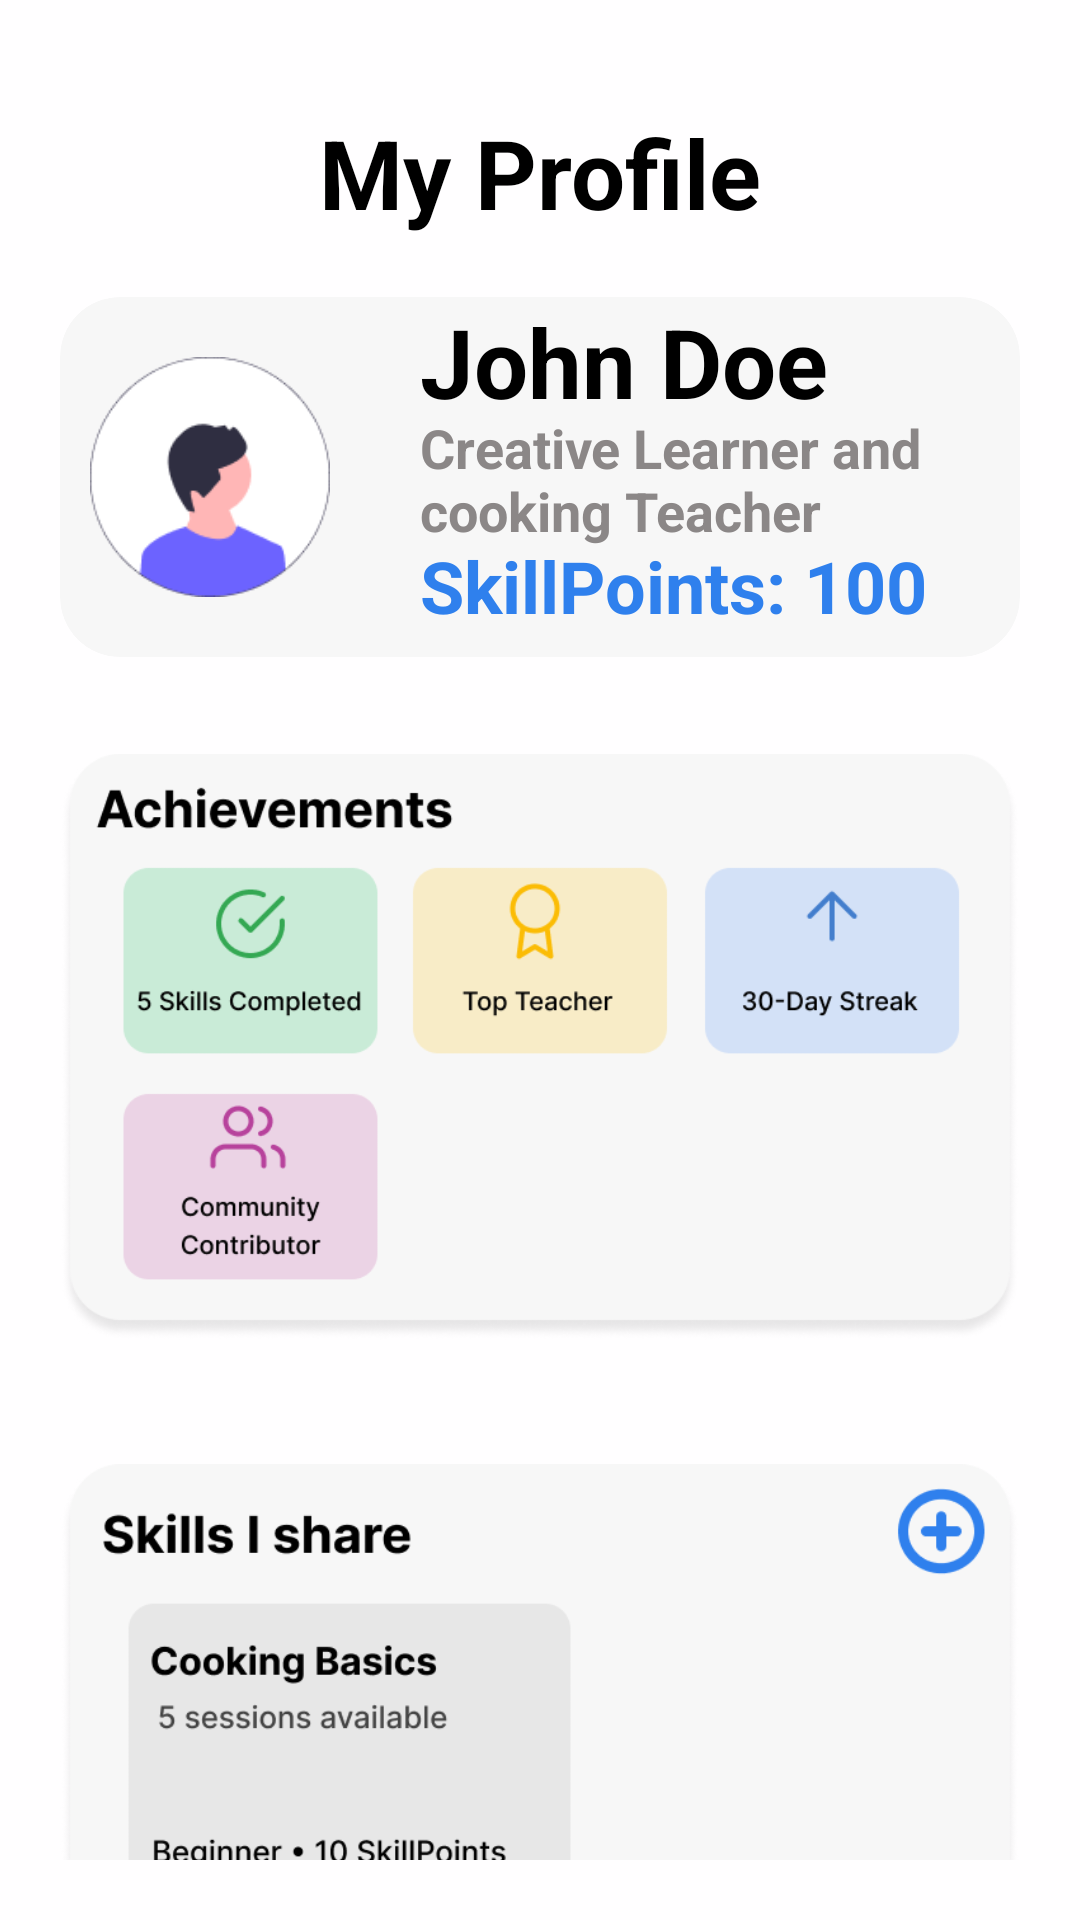

Icon bounding boxes for this 1080x1920 phone screenshot, format (x1, y1, x2, y2):
user: (90, 357, 330, 597)
